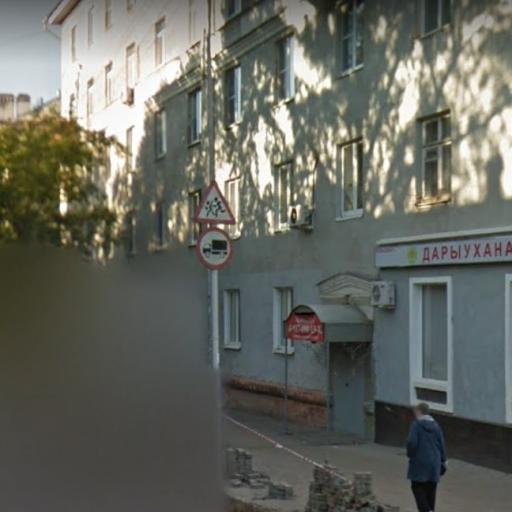traffic_sign: (191, 179, 241, 230), (195, 227, 239, 274)
